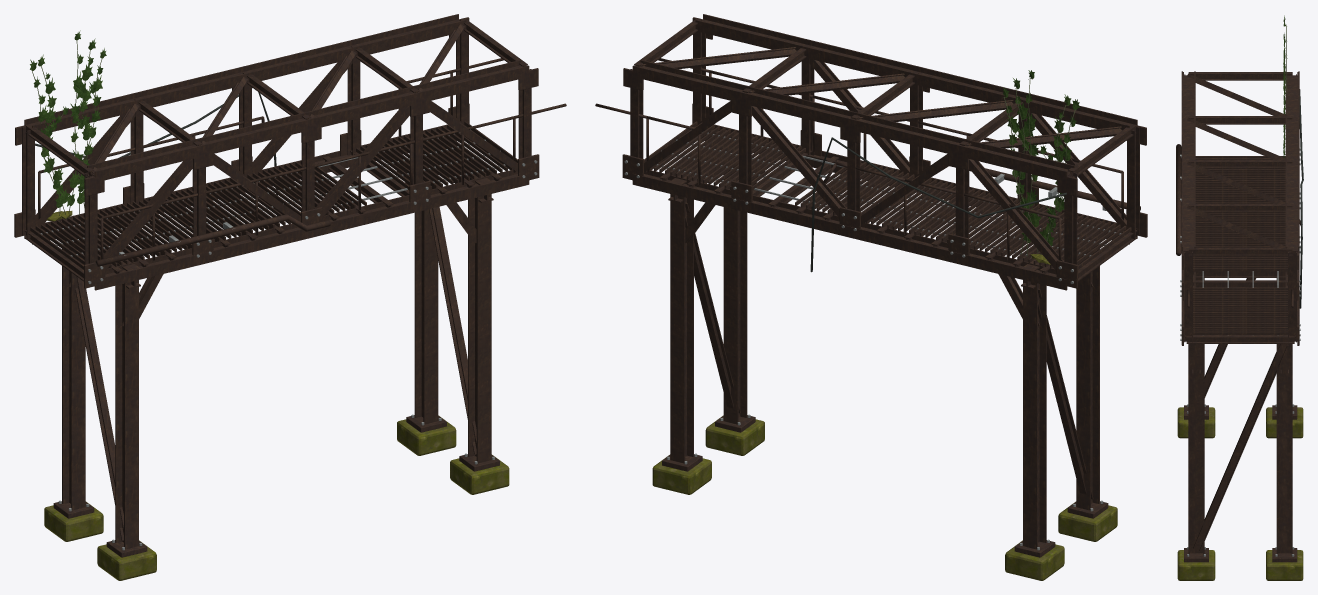
The model's file is f3_v2_truss_bridge.glb.
3 renders of one model, left to right at view 1: azimuth 30°, elevation 25°; view 2: azimuth 150°, elevation 25°; view 3: azimuth 270°, elevation 25°, orthographic. The views are drawn at different scales.
Visible parts, largest first — view 1: f3_oxidized_iron_surface, f3_damp_concrete_surface, f3_lobed_ivy_veined_surface, f3_bare_worn_steel_surface; view 2: f3_oxidized_iron_surface, f3_damp_concrete_surface, f3_lobed_ivy_veined_surface, f3_bare_worn_steel_surface, f3_deep_crack_surface, f3_ivy_woody_stem_surface; view 3: f3_oxidized_iron_surface, f3_damp_concrete_surface, f3_deep_crack_surface, f3_bare_worn_steel_surface, f3_lobed_ivy_veined_surface.
Boxes of the visible parts, x1,y1,x2,y2 form: f3_oxidized_iron_surface: (14, 14, 566, 557); f3_damp_concrete_surface: (44, 211, 509, 580); f3_lobed_ivy_veined_surface: (30, 30, 106, 207); f3_bare_worn_steel_surface: (40, 129, 537, 550); f3_oxidized_iron_surface: (595, 14, 1147, 557); f3_damp_concrete_surface: (652, 254, 1117, 580); f3_lobed_ivy_veined_surface: (1003, 70, 1080, 246); f3_bare_worn_steel_surface: (624, 129, 1121, 550); f3_deep_crack_surface: (810, 137, 1066, 272); f3_ivy_woody_stem_surface: (1002, 78, 1075, 256); f3_oxidized_iron_surface: (1176, 71, 1300, 562); f3_damp_concrete_surface: (1177, 407, 1303, 580); f3_deep_crack_surface: (1299, 89, 1303, 308); f3_bare_worn_steel_surface: (1180, 148, 1300, 556); f3_lobed_ivy_veined_surface: (1283, 15, 1285, 157).
Bounding box in the file's own units: 8.94 × 8.78 × 2.46.
6 materials, 6 textured.
